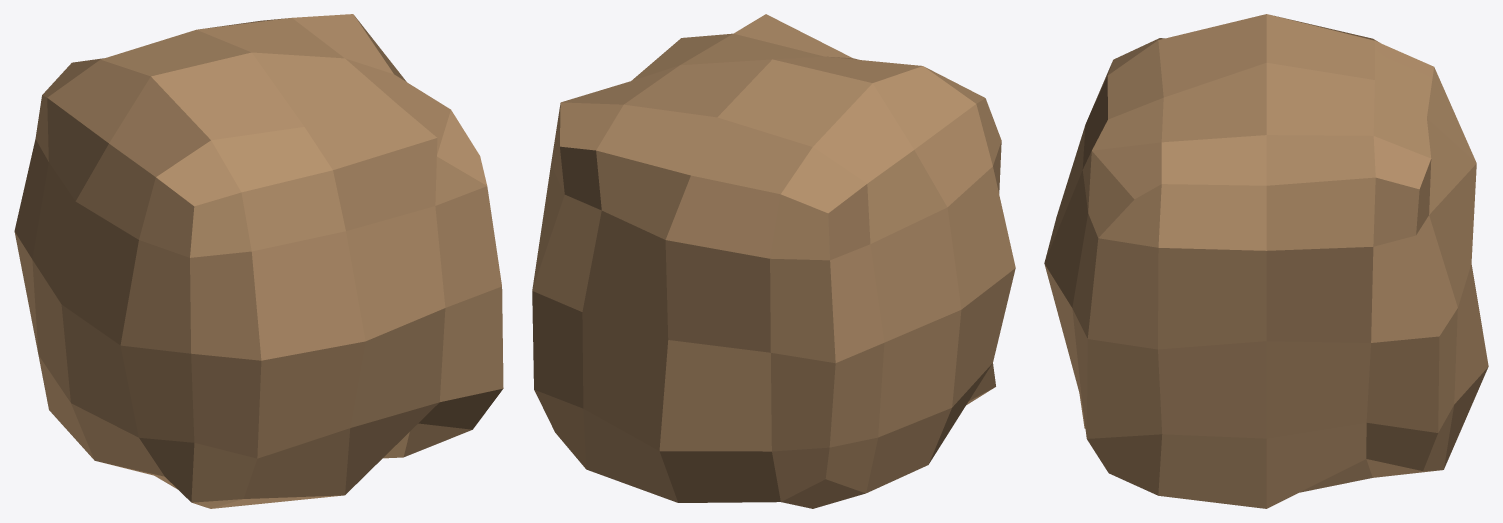
The model's file is blockPush.obj.
3 renders of one model, left to right at view 1: azimuth 30°, elevation 25°; view 2: azimuth 150°, elevation 25°; view 3: azimuth 270°, elevation 25°, orthographic. The views are drawn at different scales.
Parts seen in each view (by area): view 1: 立方体.007; view 2: 立方体.007; view 3: 立方体.007.
Boxes of the visible parts, box(x1,y1,x2,y2) form: 立方体.007: box(14, 14, 503, 508); 立方体.007: box(532, 14, 1015, 508); 立方体.007: box(1044, 14, 1488, 508).
Bounding box in the file's own units: 1.06 × 1.13 × 1.13.
Materials: 1 (1 with a texture image).
